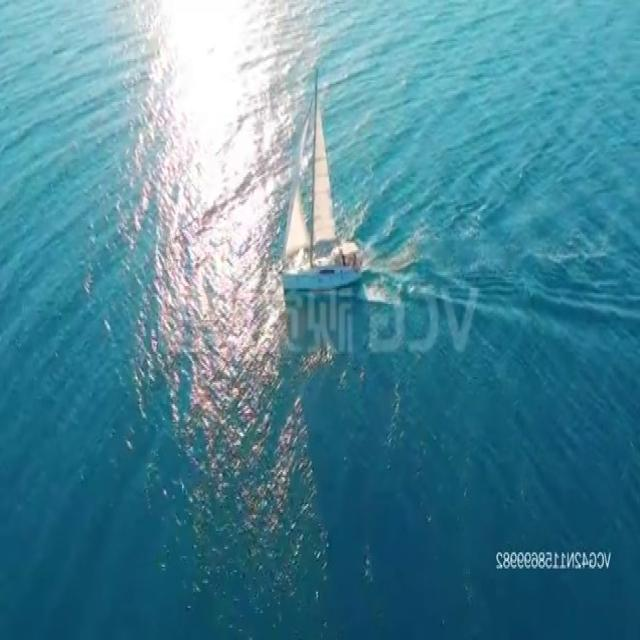sailboat: (282, 59, 368, 286)
